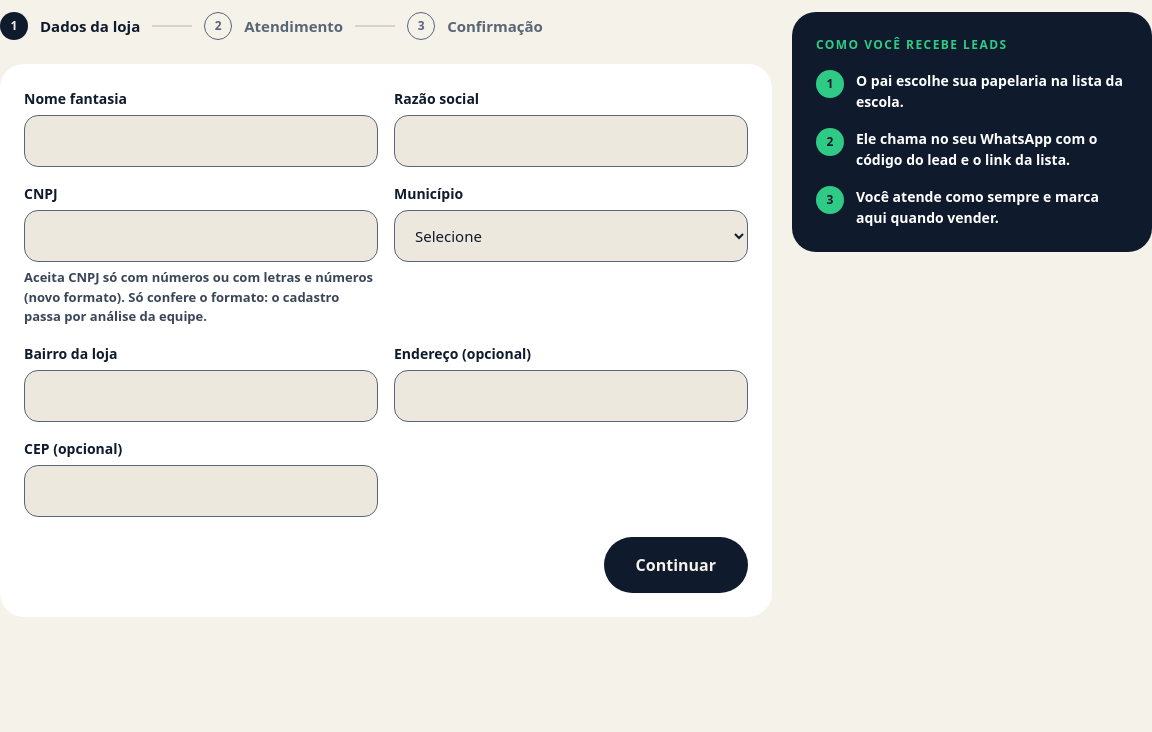
Test: RegistrationForm › mostra o passo 1 e não deixa avançar com CNPJ inválido
Type "Papelaria Boa" into the field labelled "Nome fantasia" at x=201, y=141, box [24,115,378,167]
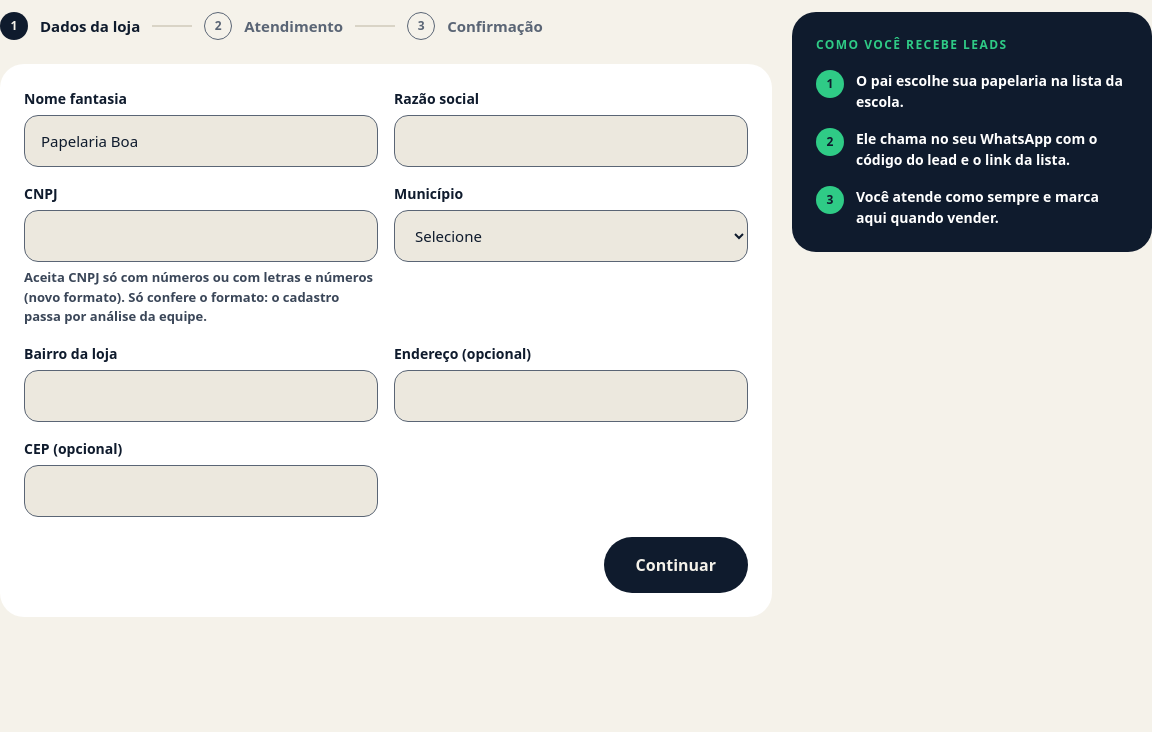
Type "Boa Ltda" into the field labelled "Razão social" at x=571, y=141, box [394,115,748,167]
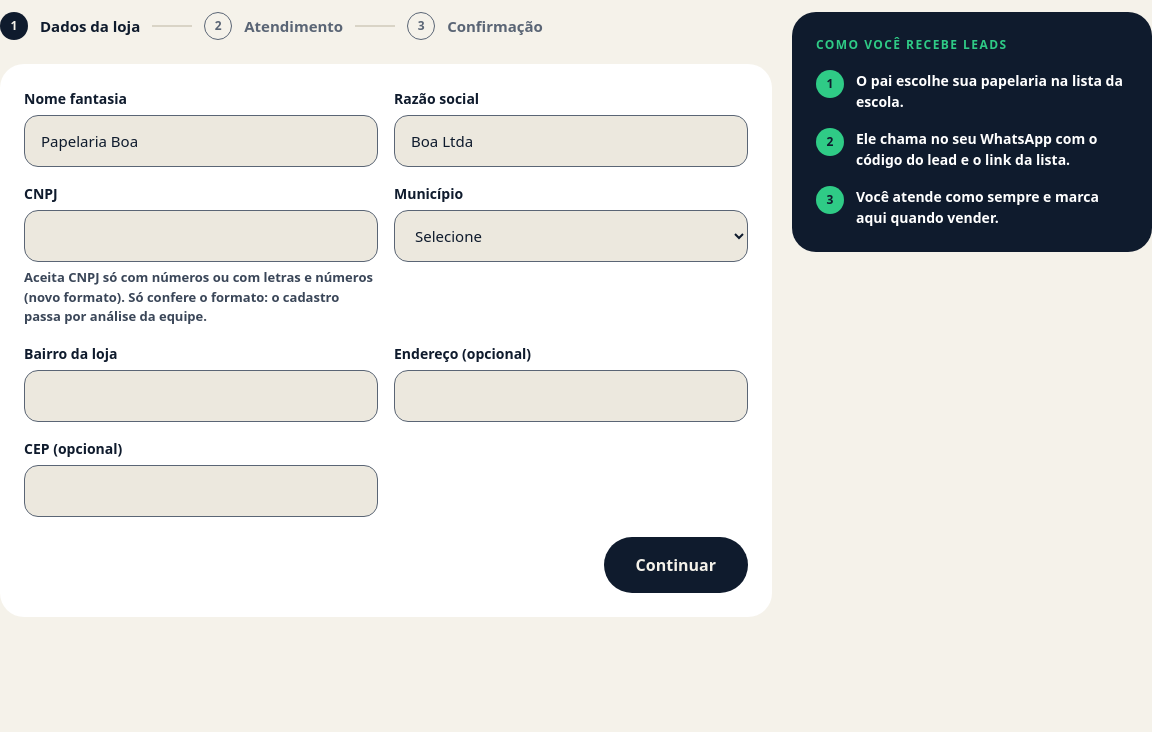
Type "11.111.111/1111-11" into the field labelled "CNPJ" at x=201, y=236, box [24,210,378,262]
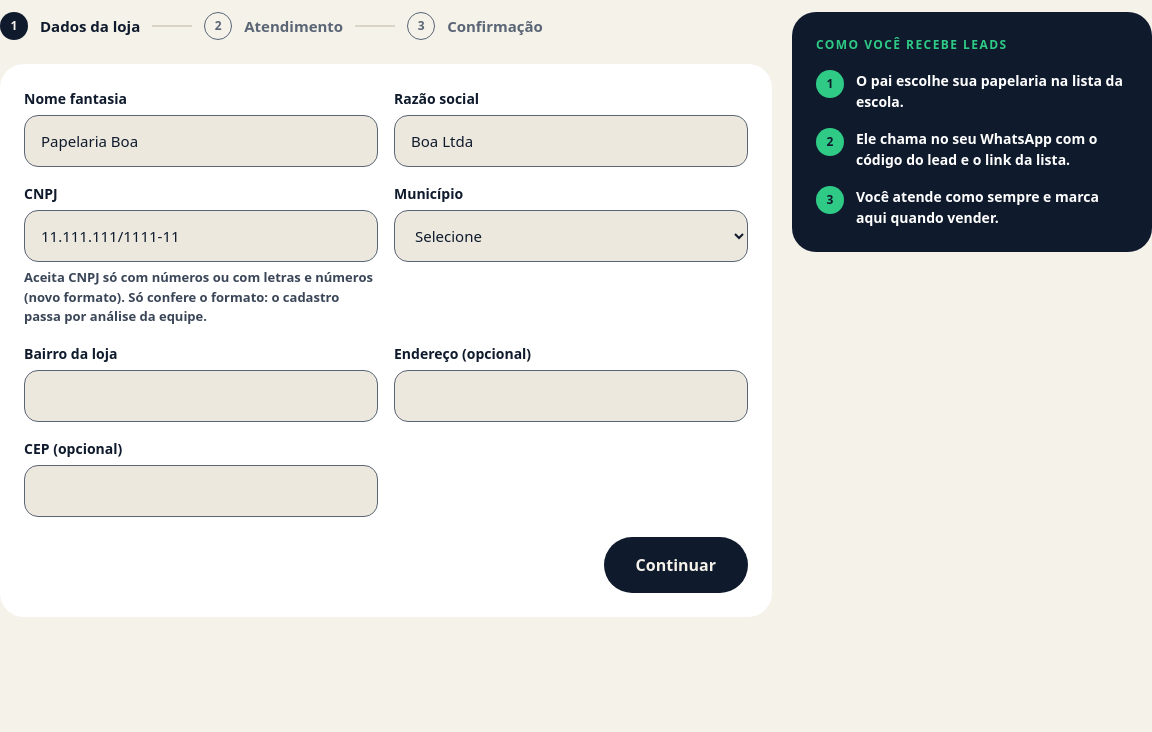
Select "Cuiabá/MT" in the dropdown labelled "Município" at x=571, y=236, box [394,210,748,262]
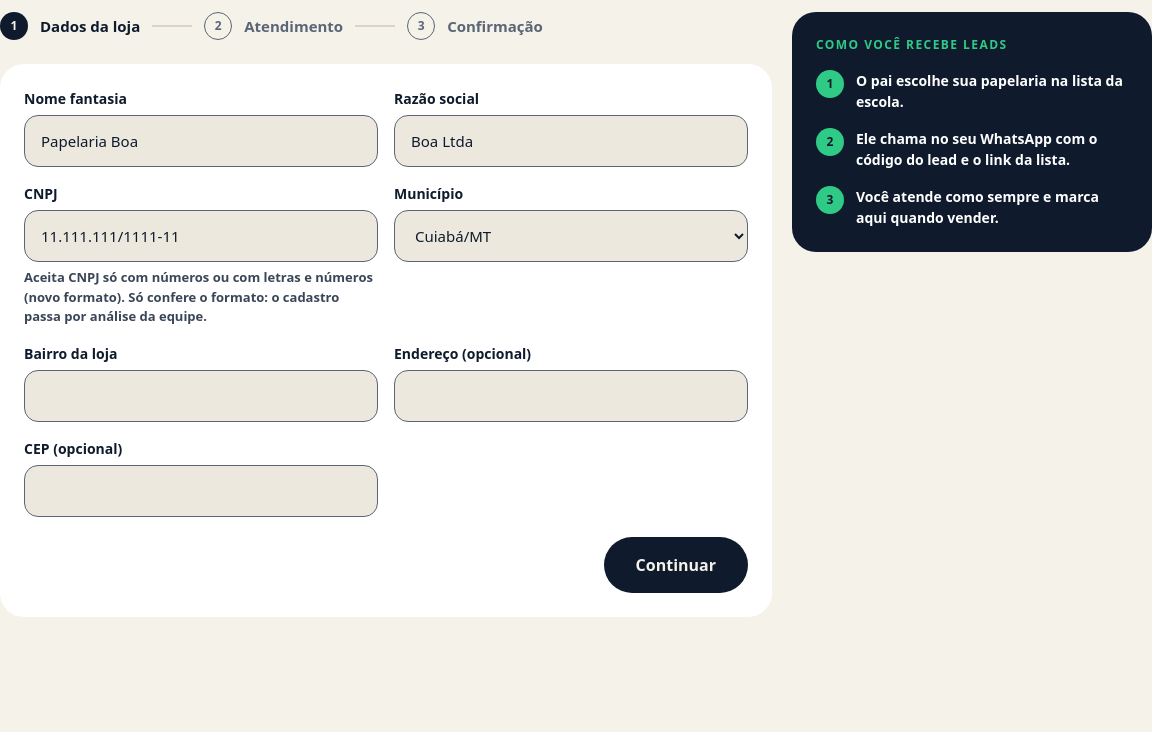
Type "Centro" into the field labelled "Bairro da loja" at x=201, y=396, box [24,370,378,422]
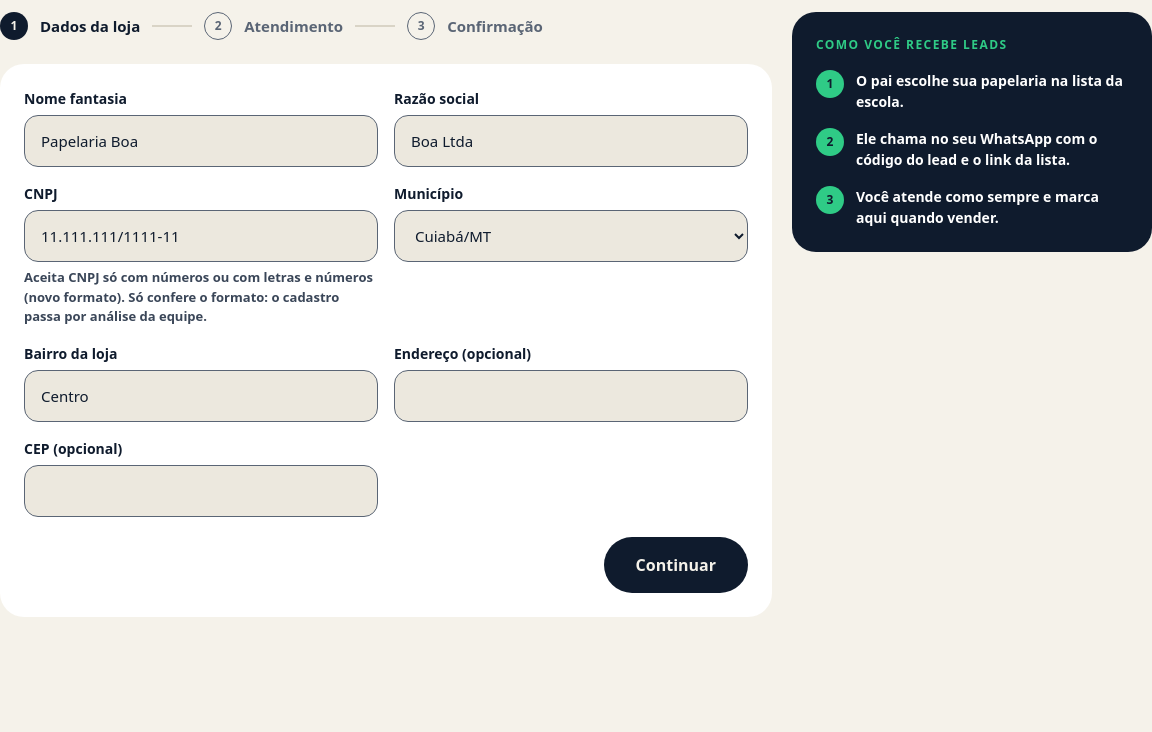
Click the button "Continuar" at x=676, y=564, box [604,536,748,592]
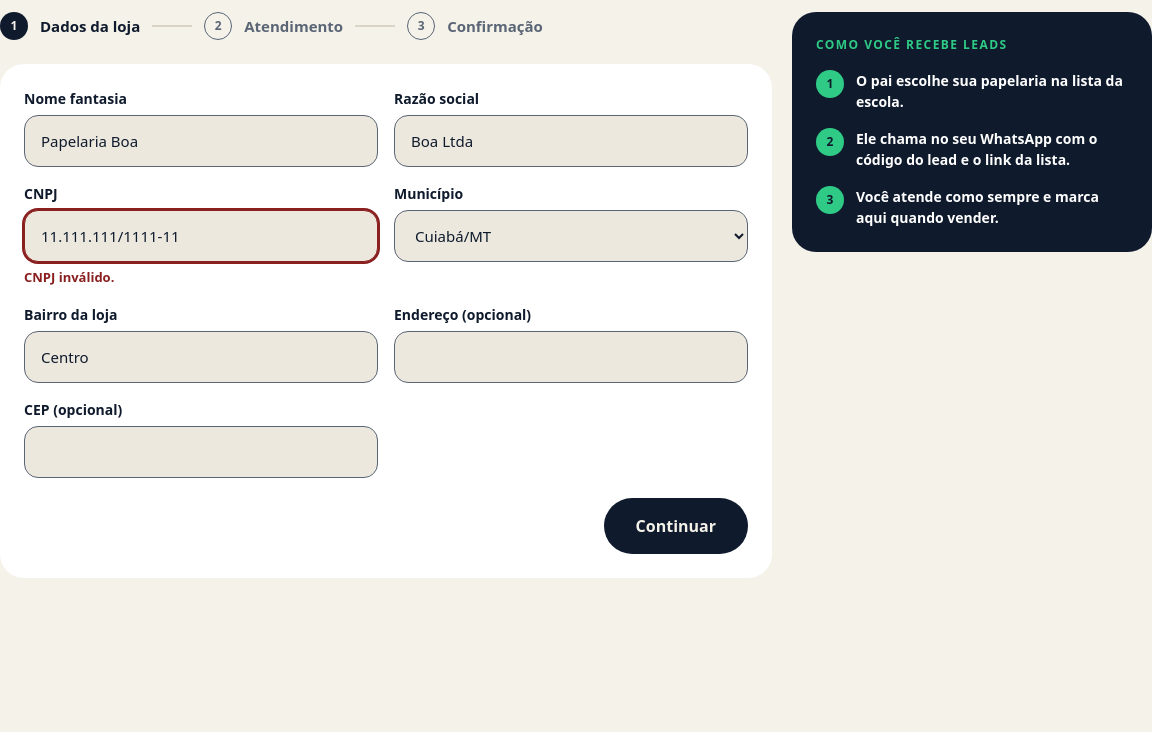
Check: the list item "1 Dados da loja" is shown, box [0,12,192,40]
Check: the text "CNPJ inválido." is shown, box [24,268,114,286]
